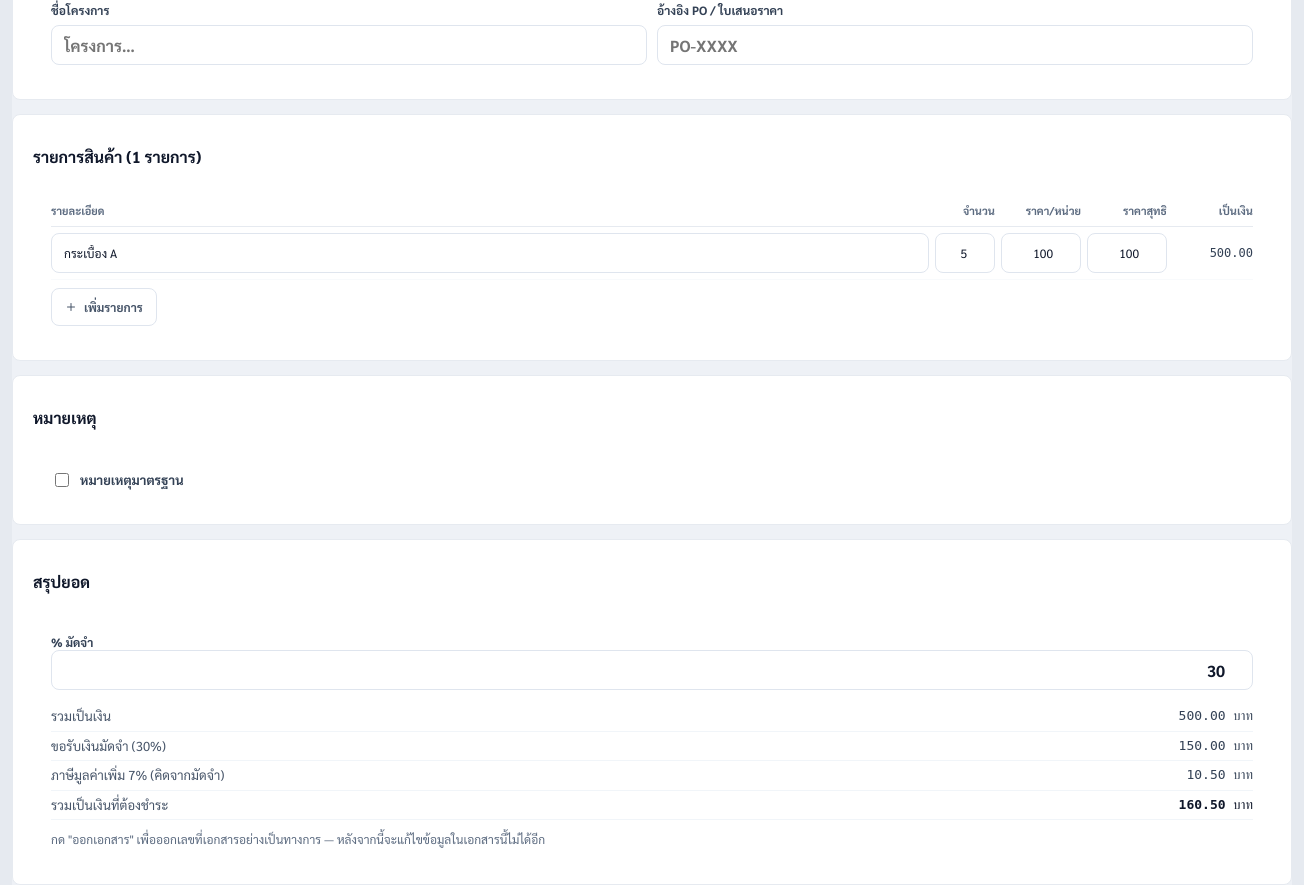
Test: DepositNoticePage › lets sales change the deposit percent on a draft, recalculates the amount, and saves it
(page scrolled)
Expected: the text "ขอรับเงินมัดจำ (30%)" is shown, [51,737,166,755]
Expected: the text "150.00 บาท" is shown, [1179,737,1253,755]
Replace the text in the number field labelled "% มัดจำ" with "39.6" at point(652, 670), box [51,650,1253,690]
(page scrolled)
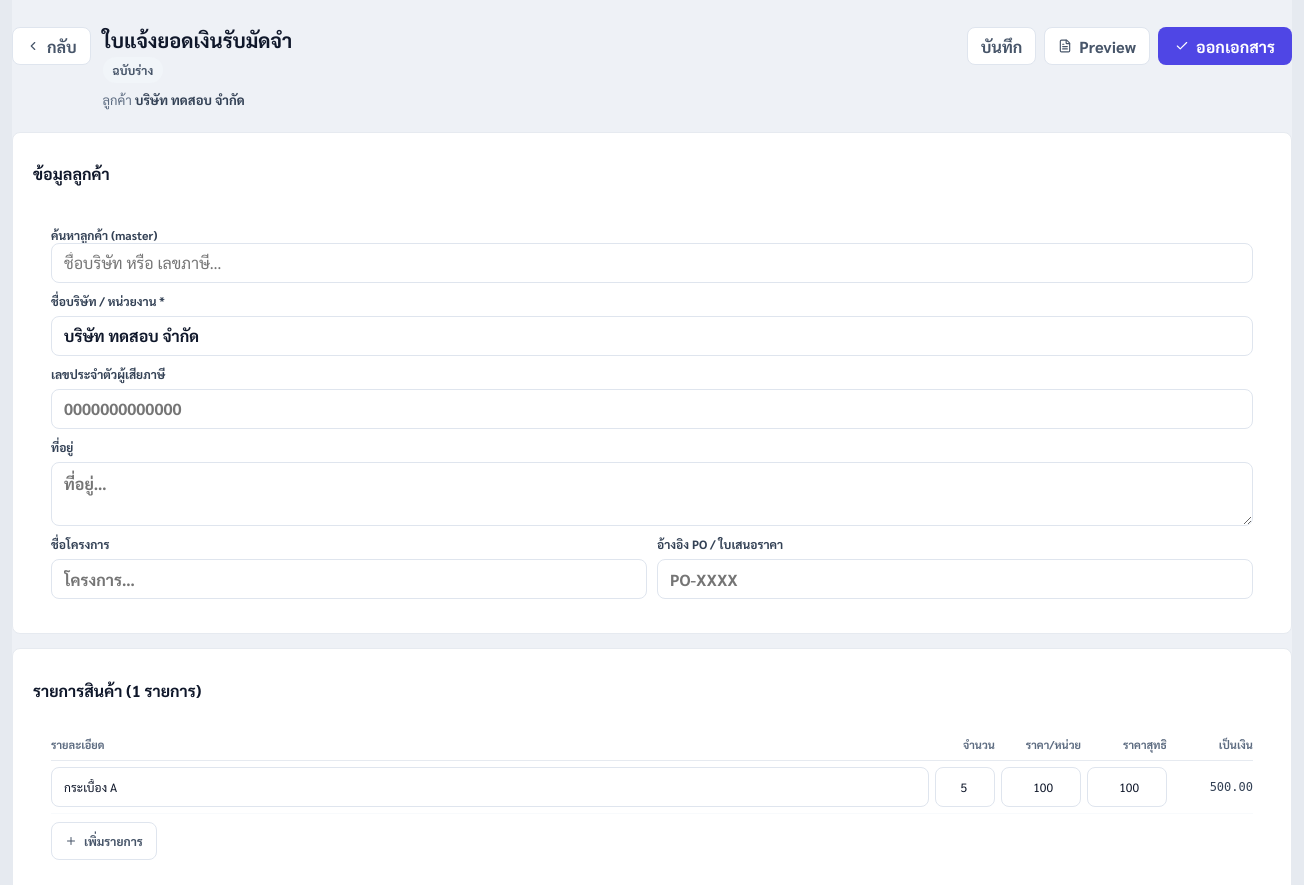
Expected: the text "150.00 บาท" is gone
Click the button "บันทึก".
click(1002, 46)  # box [967,27,1036,65]
(page scrolled)
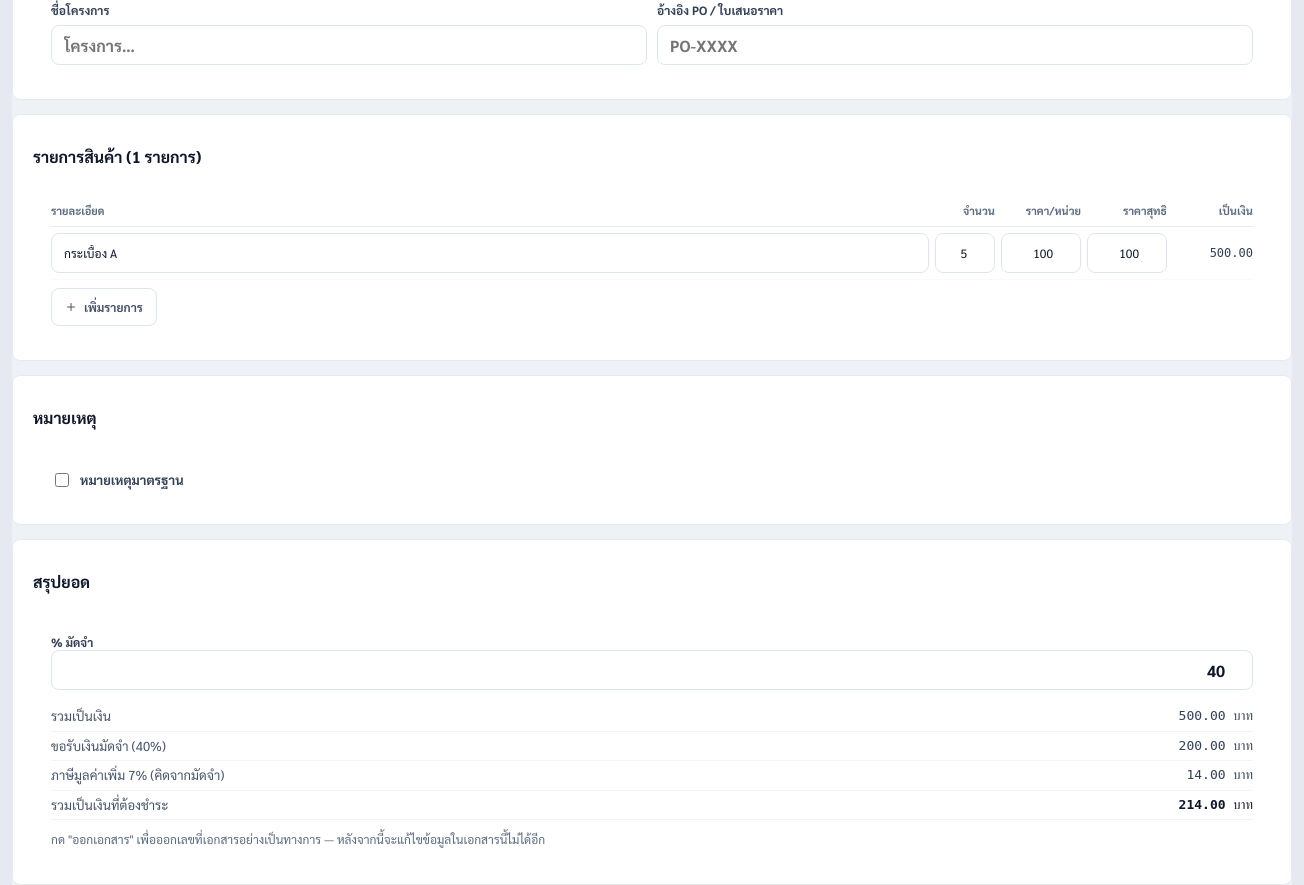
# A cleared field bills nothing: 0% and ฿0 for deposit, VAT and total, never a silent 50%.
Clear the number field labelled "% มัดจำ" at point(652, 670), box [51,650,1253,690]
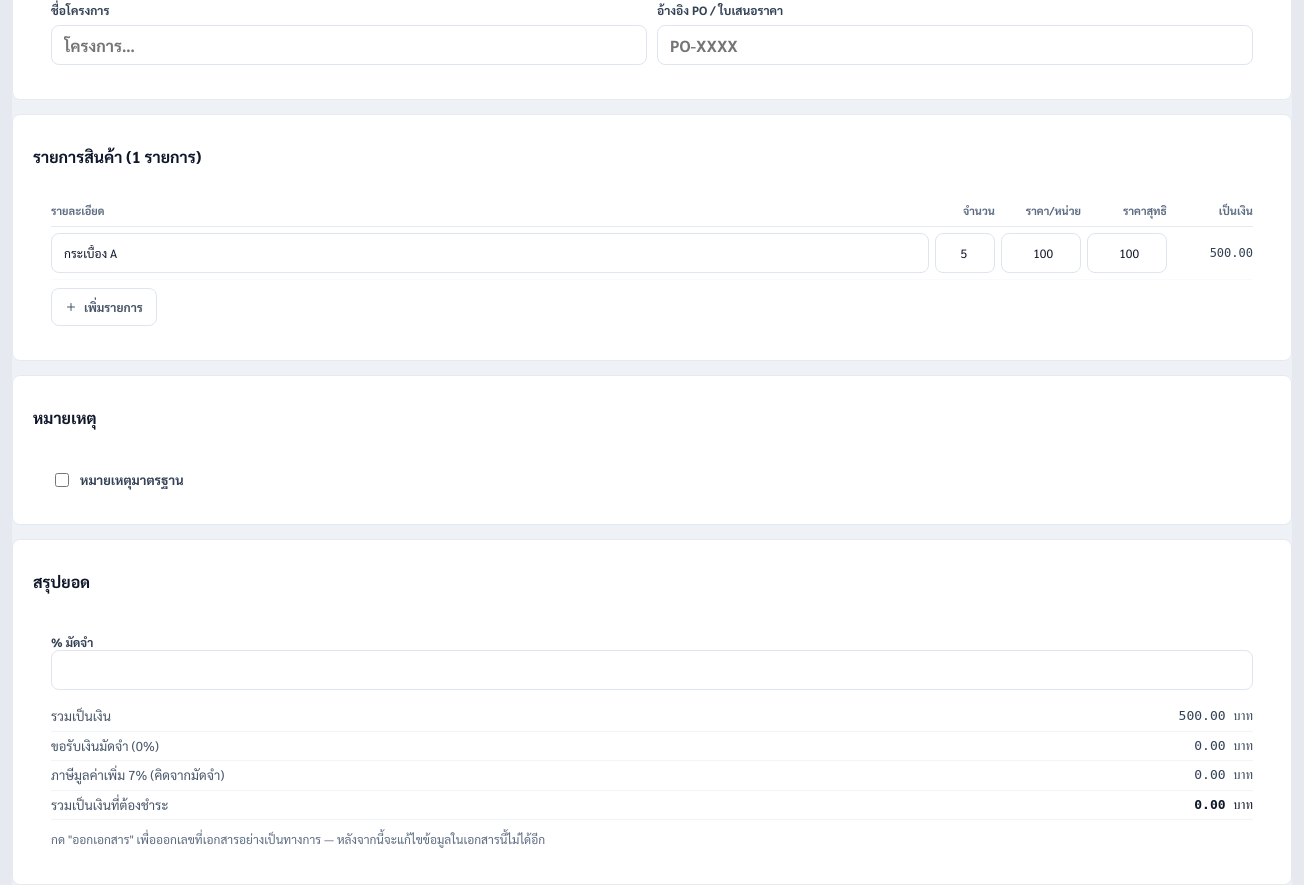
Expected: the text "0.00 บาท" is shown 3 times, [1194,737,1253,755]; [1194,766,1253,785]; [1194,796,1253,814]
Expected: the text "ขอรับเงินมัดจำ (0%)" is shown, [51,737,159,755]
